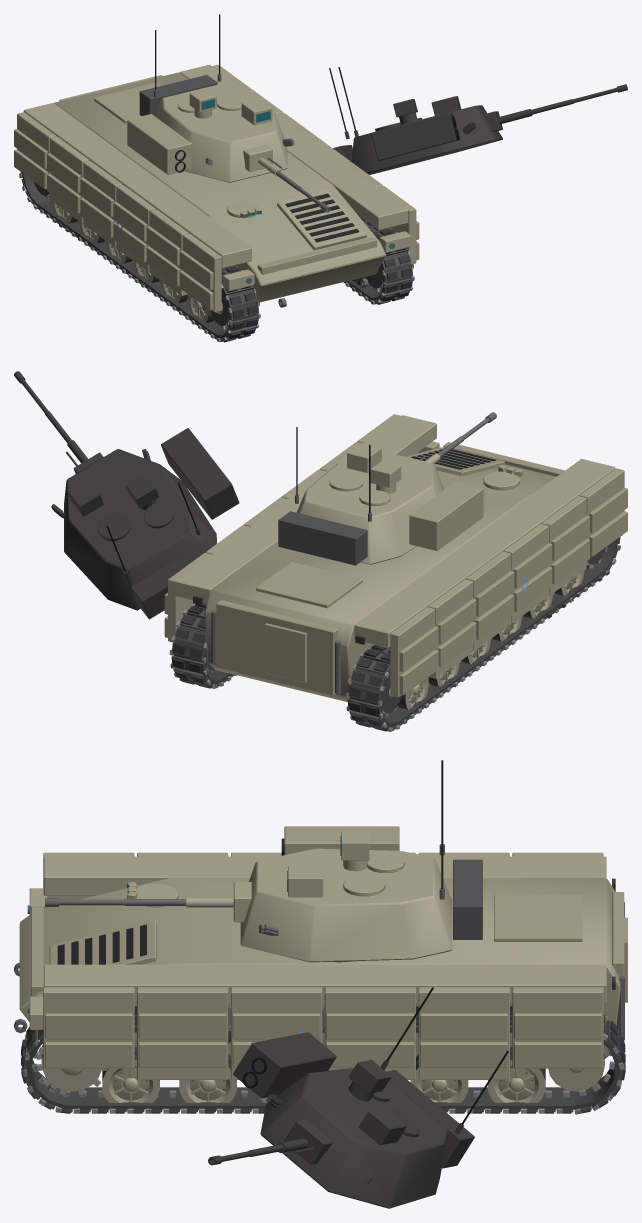
The model's file is ifv__m2a2_bradley.glb.
3 renders of one model, top to bottom at view 1: azimuth 30°, elevation 25°; view 2: azimuth 150°, elevation 25°; view 3: azimuth 270°, elevation 25°, orthographic. The views are drawn at different scales.
Visible parts, largest first — view 1: Hull_Mesh, Turret_Mesh, Wreck, Track_L_Mesh, Track_R_Mesh, Gun_Mesh; view 2: Hull_Mesh, Wreck, Turret_Mesh, Track_L_Mesh, Track_R_Mesh, Gun_Mesh, Wheel_L0_Mesh; view 3: Hull_Mesh, Wreck, Turret_Mesh, Track_R_Mesh, Gun_Mesh, Wheel_R0_Mesh, Wheel_R5_Mesh, Sprocket_R_Mesh, Wheel_R4_Mesh, Wheel_R1_Mesh, Idler_R_Mesh.
Boxes of the visible parts, x1,y1,x2,y2 form: Hull_Mesh: (14,64,419,312); Turret_Mesh: (127,14,294,182); Wreck: (19,67,627,342); Track_L_Mesh: (19,171,260,342); Track_R_Mesh: (343,216,414,304); Gun_Mesh: (243,144,330,212); Hull_Mesh: (164,414,627,702); Wreck: (14,371,622,731); Turret_Mesh: (278,427,483,565); Track_L_Mesh: (345,536,620,731); Track_R_Mesh: (169,603,236,688); Gun_Mesh: (419,412,496,463); Wheel_L0_Mesh: (398,677,428,709); Hull_Mesh: (14,852,627,1079); Wreck: (21,899,623,1208); Turret_Mesh: (240,760,482,962); Track_R_Mesh: (21,1006,625,1114); Gun_Mesh: (45,882,251,922); Wheel_R0_Mesh: (488,1047,545,1111); Wheel_R5_Mesh: (102,1046,159,1111); Sprocket_R_Mesh: (36,1044,107,1095); Wheel_R4_Mesh: (179,1054,236,1110); Wheel_R1_Mesh: (410,1055,468,1110); Idler_R_Mesh: (548,1049,604,1091).
Size of what is drawn, in the model's own units: 8.8 by 3.47 by 6.92.
